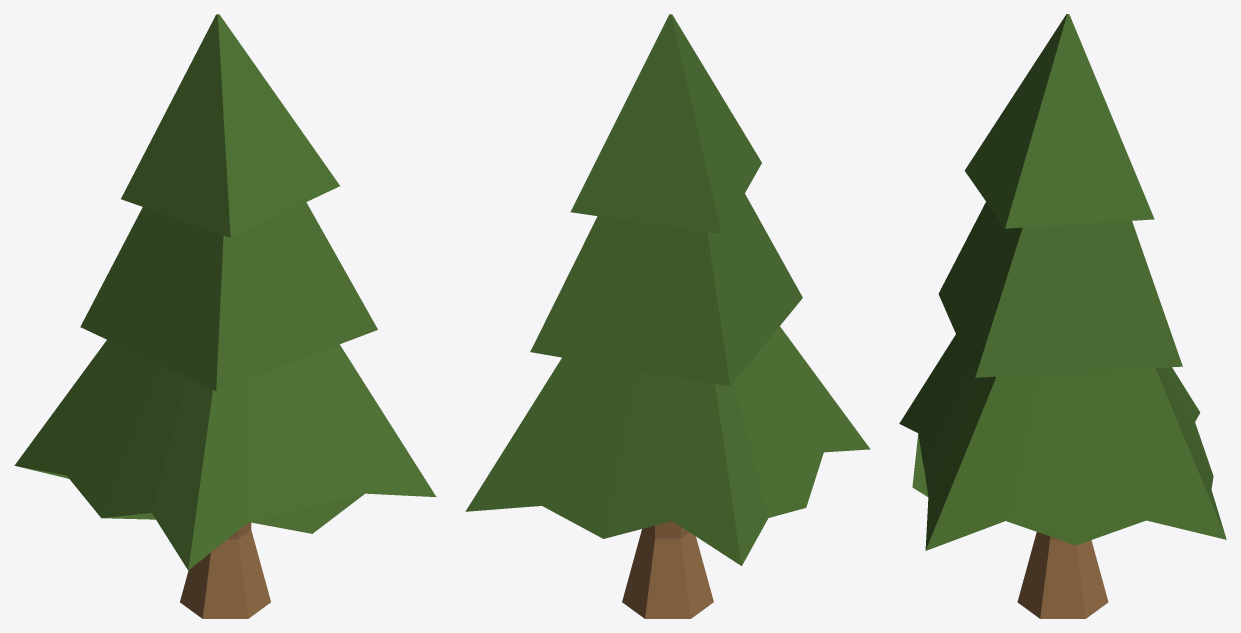
The model's file is tree_003.fbx.
The picture shows the model from 3 angles, left to right: view 1: azimuth 30°, elevation 25°; view 2: azimuth 150°, elevation 25°; view 3: azimuth 270°, elevation 25°; orthographic projection.
Visible parts, largest first — view 1: Cube.002; view 2: Cube.002; view 3: Cube.002.
Part boxes in pixels (x1,y1,x2,y2): Cube.002: (14,14,436,618); Cube.002: (465,14,869,618); Cube.002: (899,14,1226,618).
Bounding box in the file's own units: 2.03 × 4.01 × 2.03.
